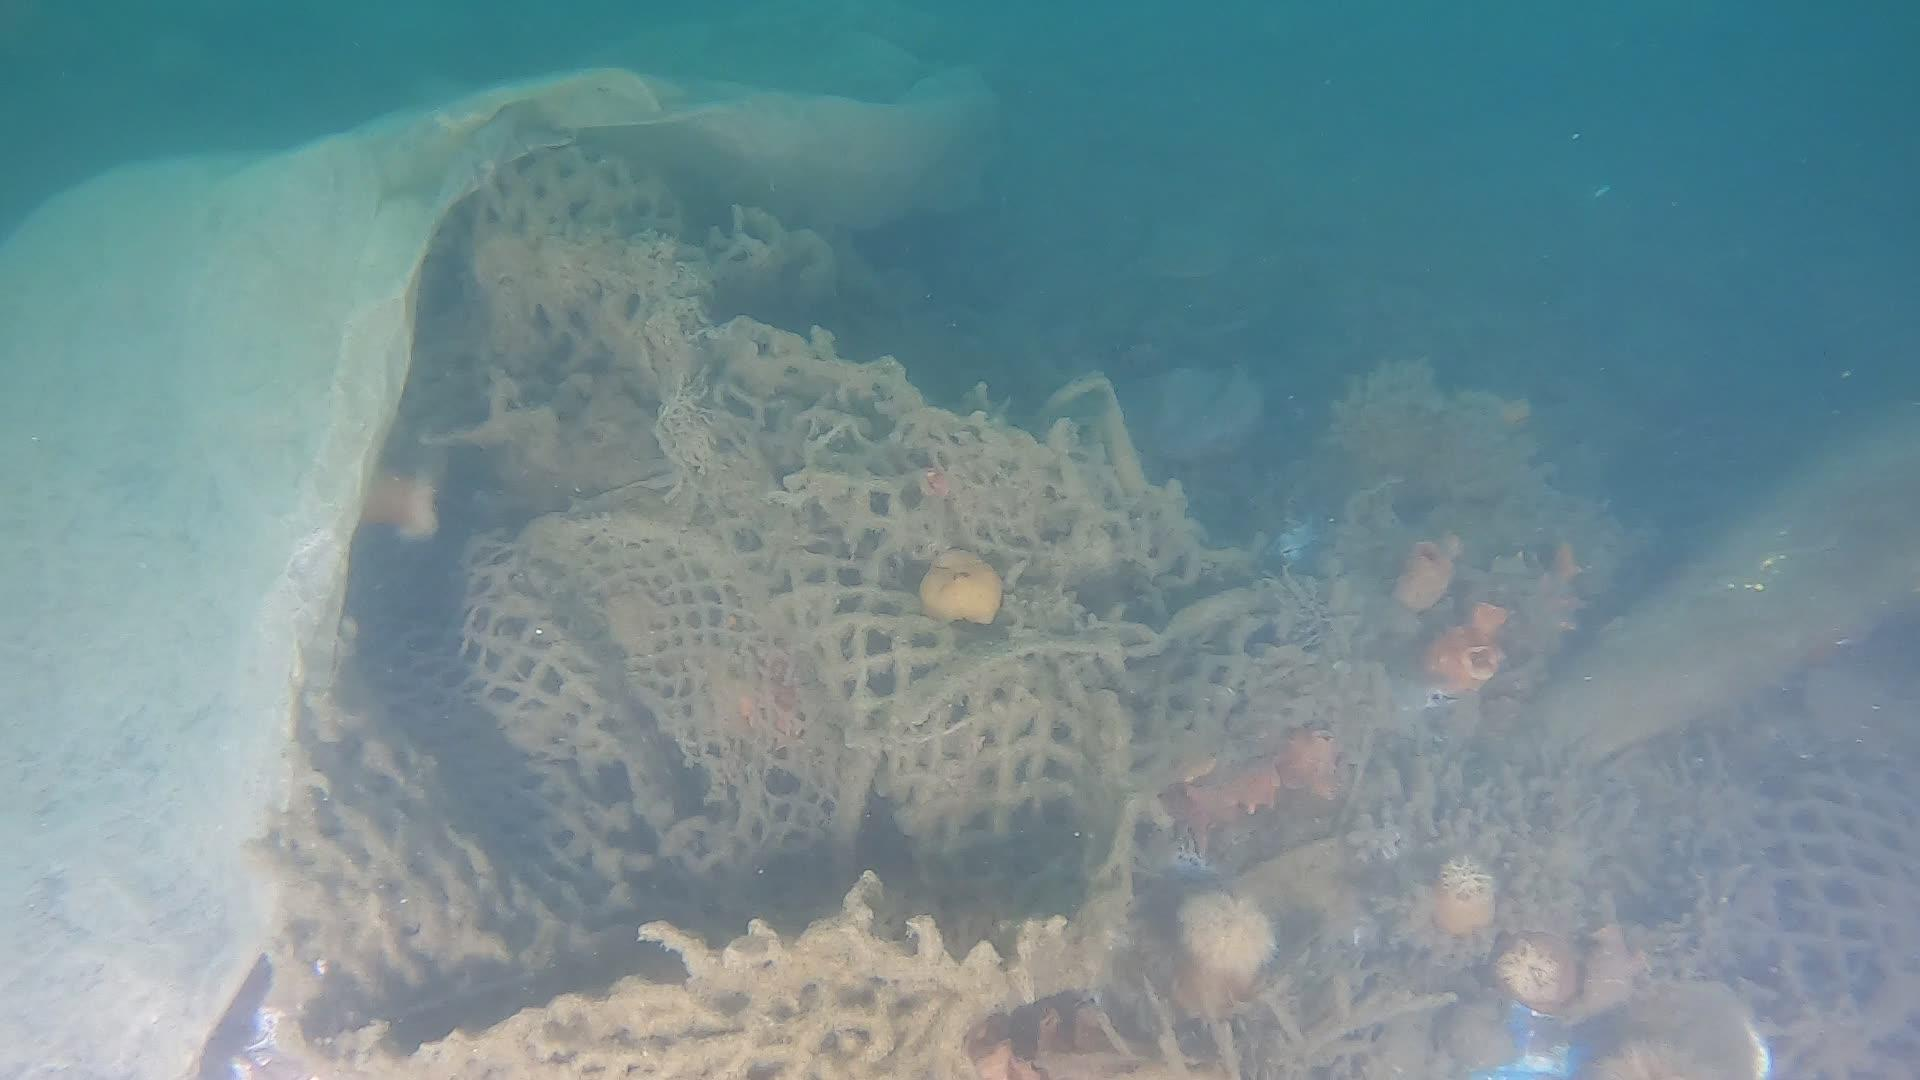fish net: (338, 133, 1920, 1080)
